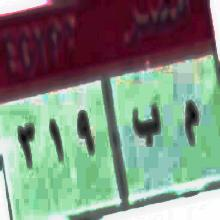1: (46, 112, 64, 172)
3: (17, 117, 38, 173)
9: (76, 108, 95, 168)
baa: (132, 99, 163, 154)
meem: (182, 92, 198, 155)
